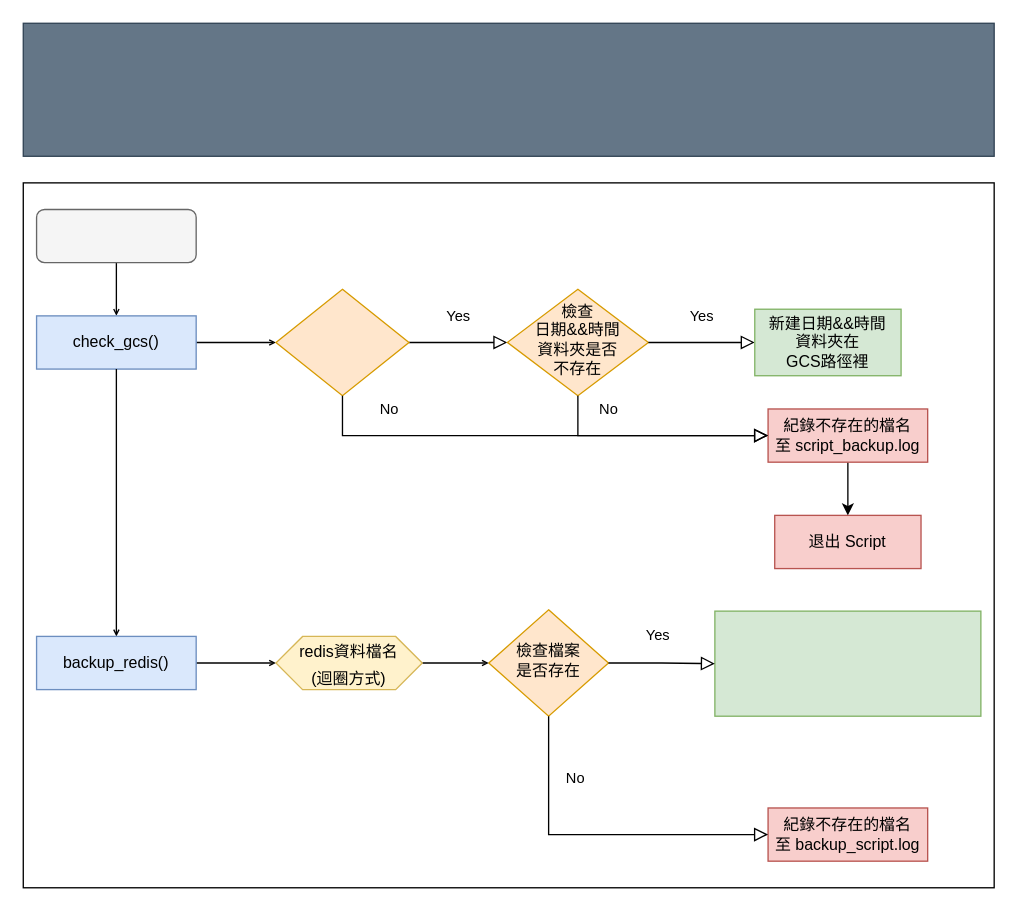
Image size: 1017x911. Some labels were removed from this diagram. Each missing label, with the centre of its shape:
Redis Backup Script: the point at 508,89
Script Start: the point at 115,235
新建機器名稱資料夾 - (GCS路徑) 複製檔案 - (copy) 壓縮複製檔案 - (tar.gz) 移動壓縮檔案 - (GCS路徑): the point at 847,663
檢查GCS 路徑權限: the point at 342,342
